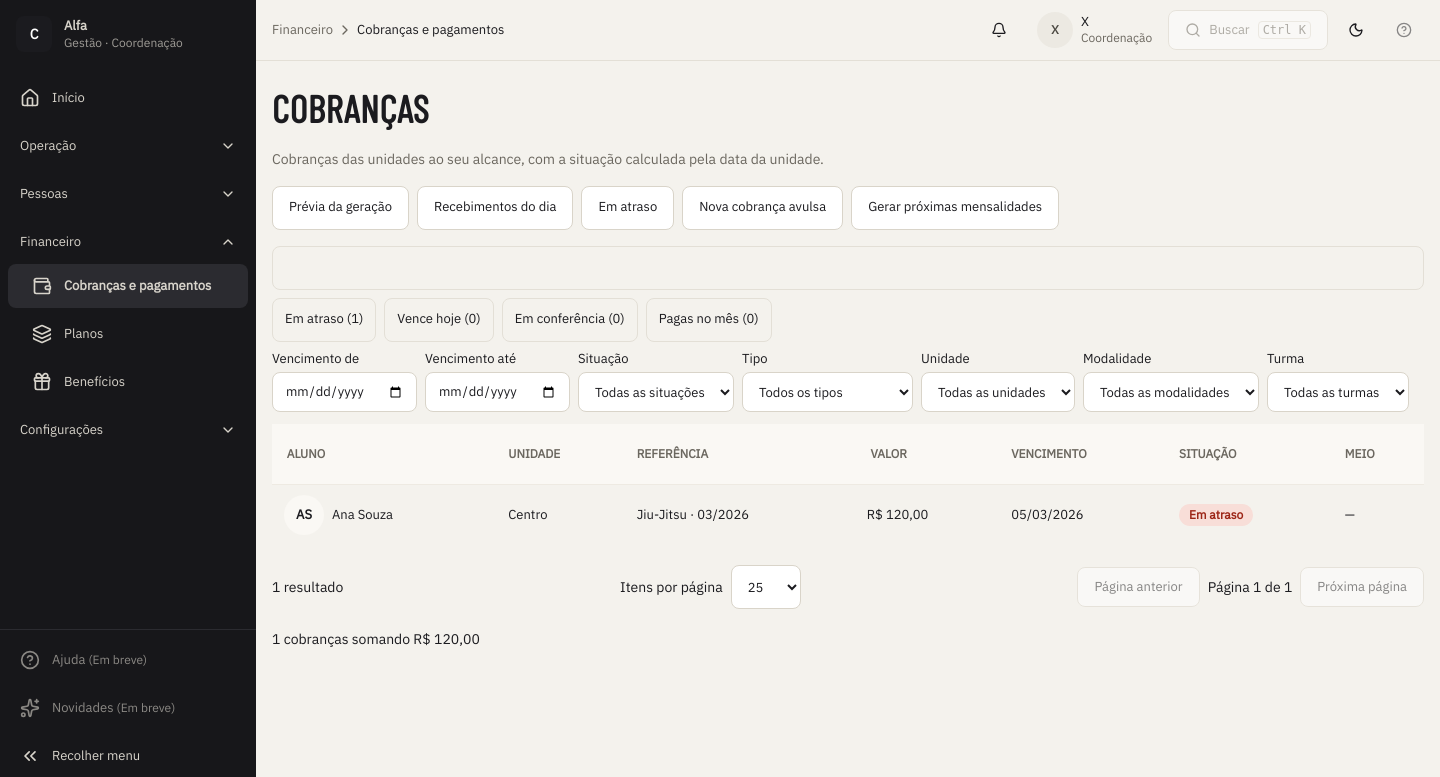
Test: ChargePanel (RF-COB-02) › CA2: mostra a origem da parcela e as cobranças que substituíram a original, com o motivo e quem cancelou
Click the button with aria-label "Abrir cobrança de Ana Souza" at x=693, y=515, box [637,493,749,537]
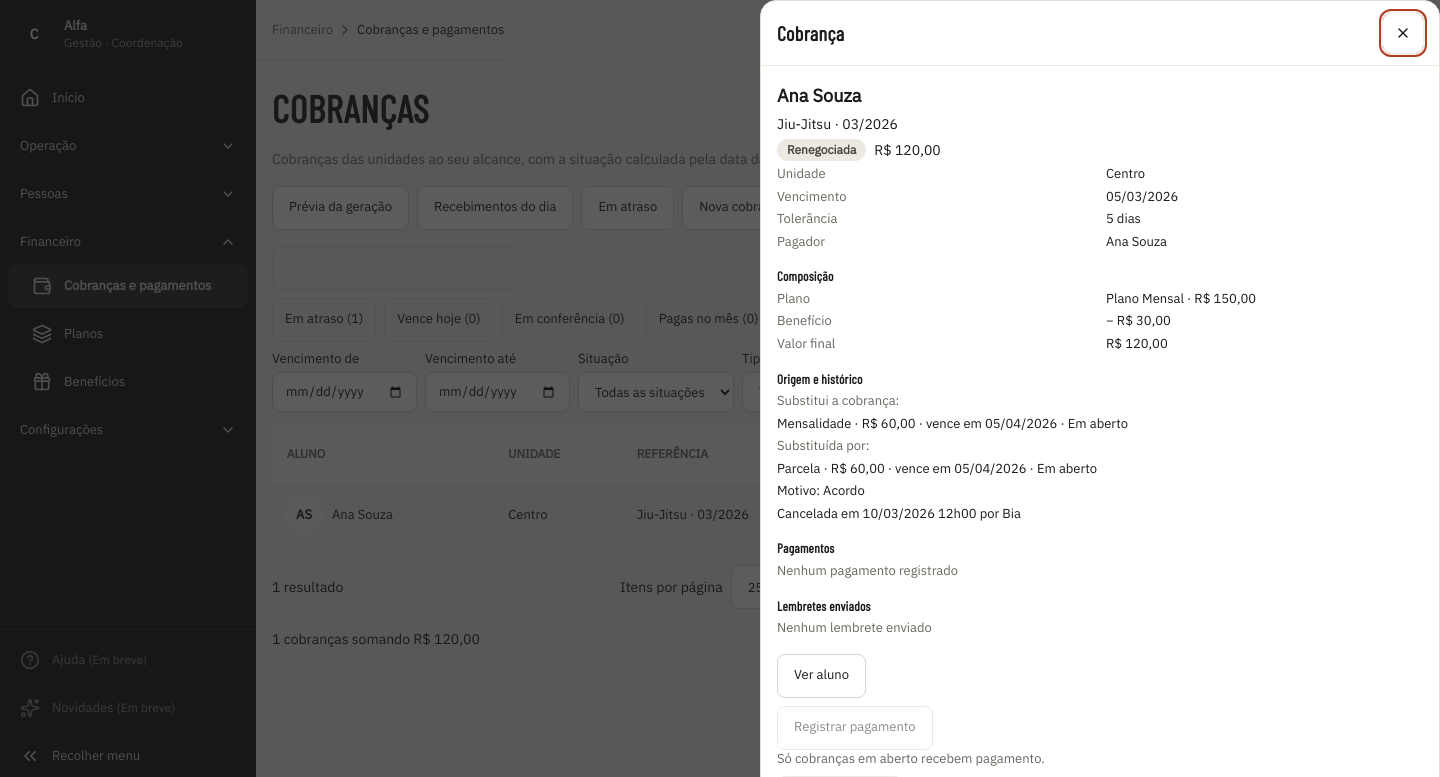
expect the text "Substituída por:" is shown: met, box [777,437,870,454]
expect the text "Substitui a cobrança:" is shown: met, box [777,392,899,409]
expect the list item "Parcela · R$ 60,00 · vence em 05/04/2026 · Em aberto" is shown: met, box [777,460,1097,477]
